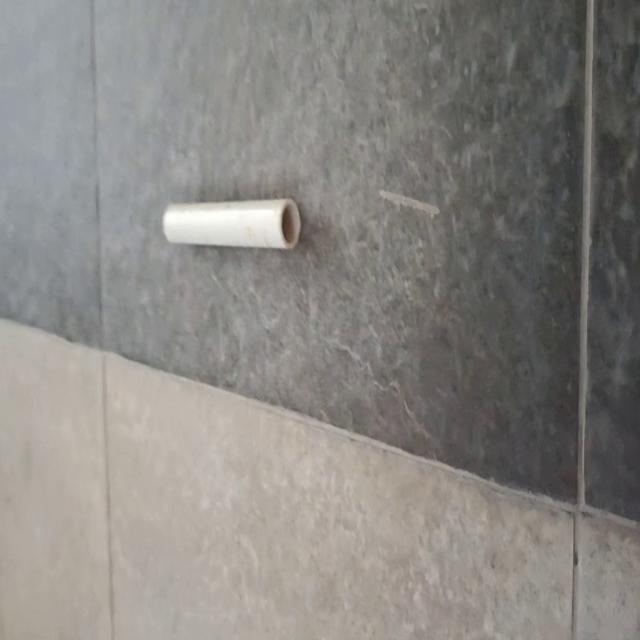Cube: (162, 196, 302, 250)
